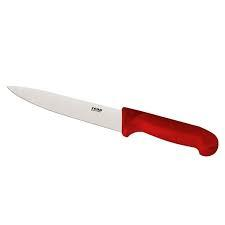Knife: (6, 84, 218, 156)
